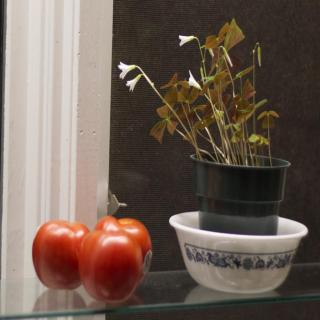tomato: (32, 218, 88, 288), (94, 216, 153, 282)
